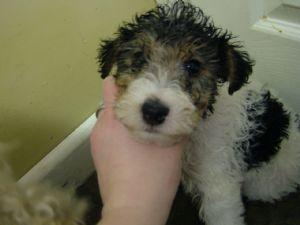wire-haired_fox_terrier: (98, 1, 299, 223)
